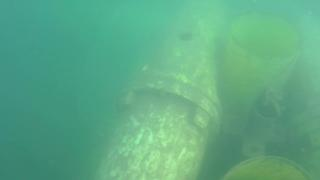pipe: (92, 1, 235, 178), (220, 15, 297, 114), (292, 1, 320, 160), (220, 155, 313, 180)
